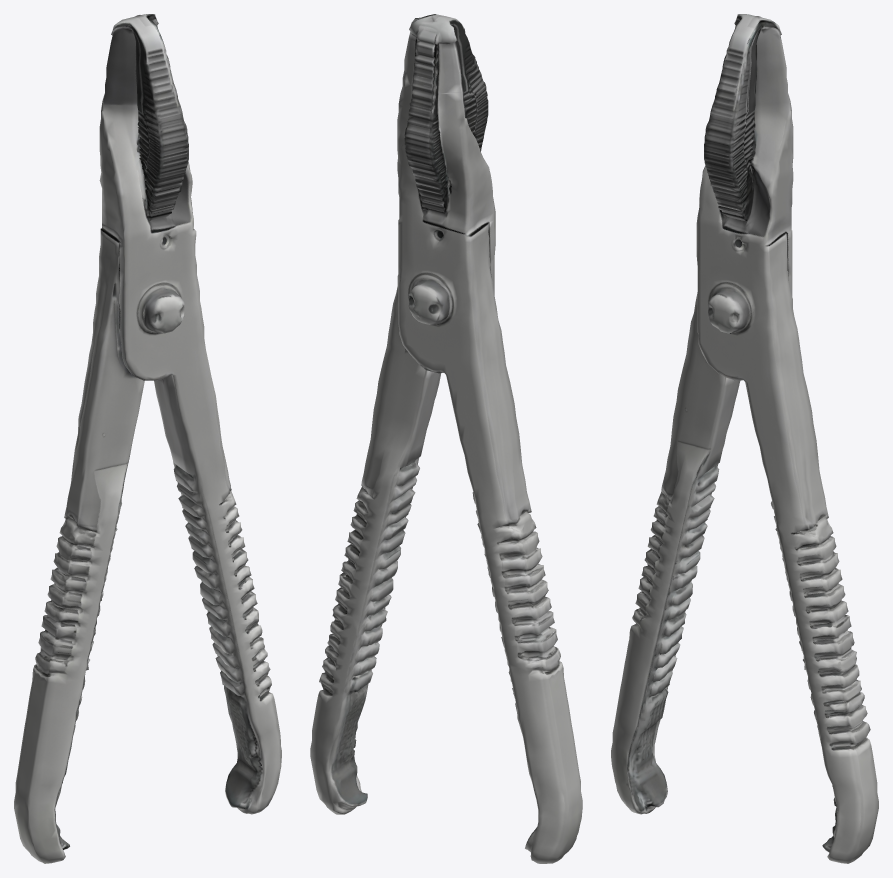
Rendered from tripo_convert_307f47c4-957a-4f30-bd90-a405e7a31723.fbx.
3 renders of one model, left to right at view 1: azimuth 30°, elevation 25°; view 2: azimuth 150°, elevation 25°; view 3: azimuth 330°, elevation 25°, orthographic.
Parts seen in each view (by area): view 1: tripo_node_307f47c4; view 2: tripo_node_307f47c4; view 3: tripo_node_307f47c4.
Part boxes in pixels (x1,y1,x2,y2): tripo_node_307f47c4: [14, 14, 281, 863]; tripo_node_307f47c4: [310, 14, 582, 863]; tripo_node_307f47c4: [611, 14, 878, 863].
Bounding box in the file's own units: 0.3202 × 0.9797 × 0.1208.
Materials: 1 (1 with a texture image).
